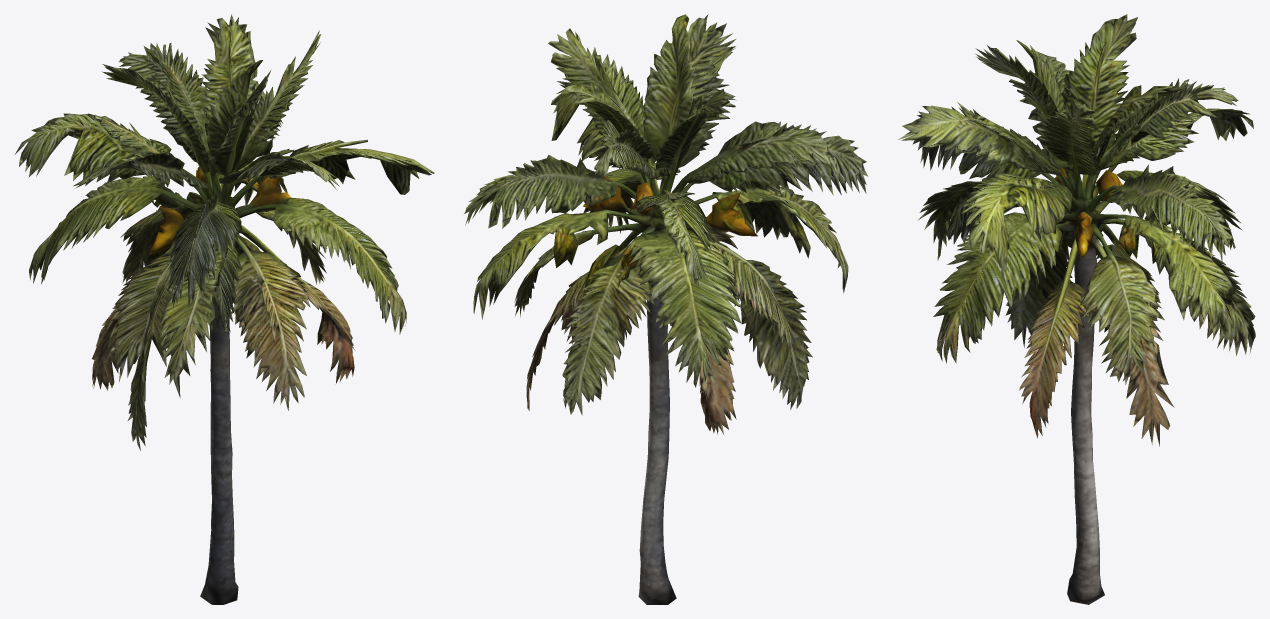
Rendered from palm_tree.fbx.
3 views of the same model, side by side, from view 1: azimuth 30°, elevation 25°; view 2: azimuth 150°, elevation 25°; view 3: azimuth 270°, elevation 25° (orthographic).
Parts seen in each view (by area): view 1: palm_tree; view 2: palm_tree; view 3: palm_tree.
Part boxes in pixels (<box>): palm_tree: <box>15,14,434,604</box>; palm_tree: <box>464,14,868,604</box>; palm_tree: <box>898,14,1255,604</box>.
Size of the model in its own units: 5.99 by 10 by 5.81.
Materials: 1 (1 with a texture image).
